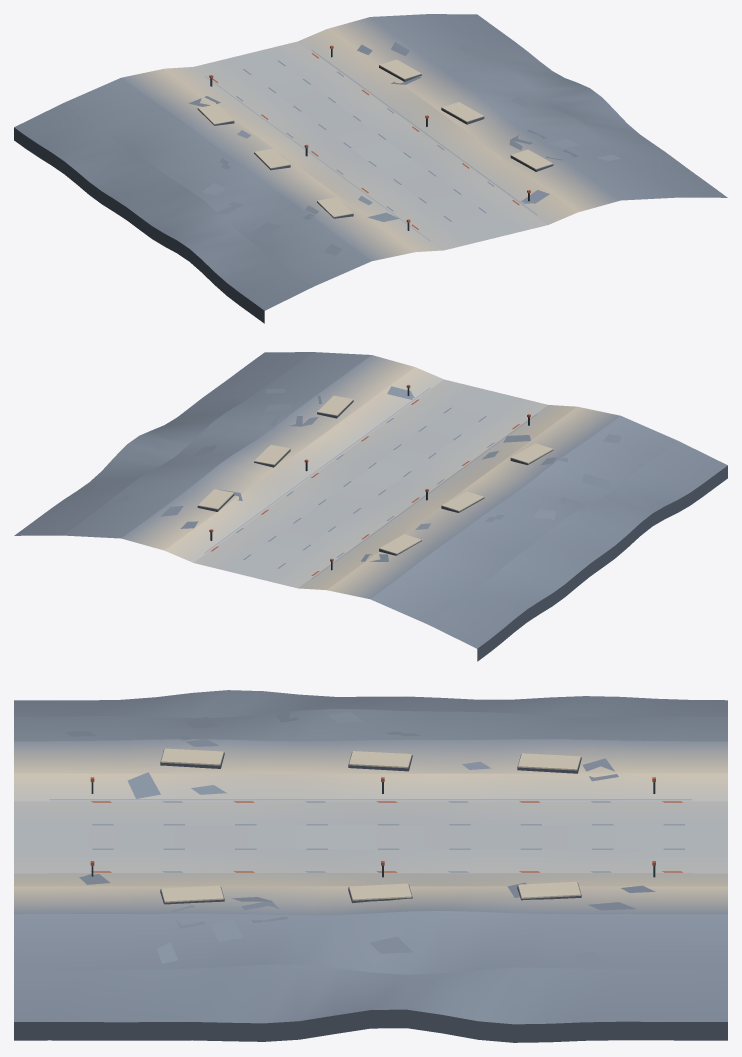
File: 06-village.glb
3 renders of one model, top to bottom at view 1: azimuth 30°, elevation 25°; view 2: azimuth 150°, elevation 25°; view 3: azimuth 270°, elevation 25°, orthographic. The views are drawn at different scales.
Visible parts, largest first — view 1: village; view 2: village; view 3: village.
Boxes of the visible parts, left/top/right/bottom form: village: left=14, top=14, right=727, bottom=323; village: left=14, top=352, right=727, bottom=661; village: left=14, top=690, right=727, bottom=1042.
Bounding box in the file's own units: 32 × 2.87 × 30.
